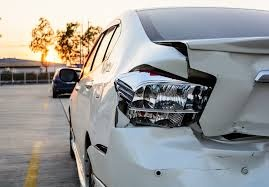Brocken-glass: (113, 65, 207, 129)
Dent: (173, 39, 269, 173), (121, 127, 207, 181), (87, 136, 111, 166)
Scratch: (201, 164, 238, 175)
